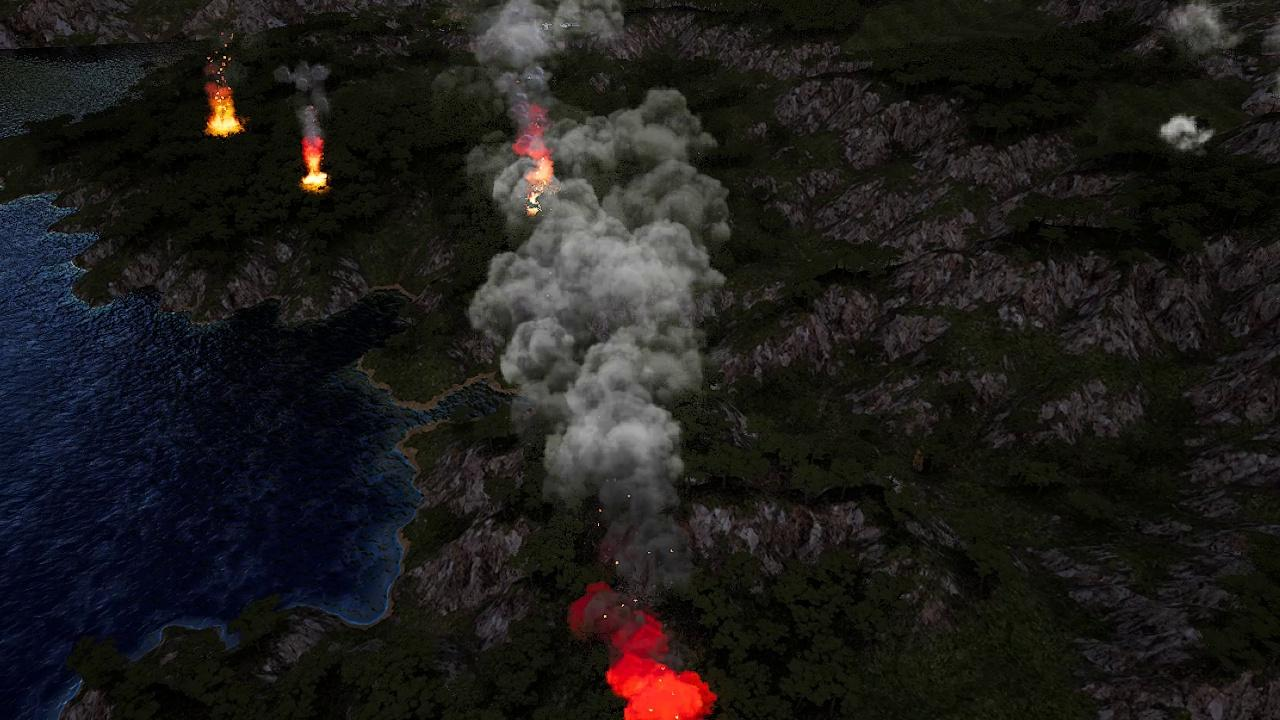fire: (520, 106, 555, 219), (1155, 110, 1215, 152), (203, 83, 244, 136), (298, 139, 329, 192)
smoke: (439, 0, 735, 712), (1146, 0, 1240, 69), (278, 60, 334, 140), (199, 24, 236, 89)
